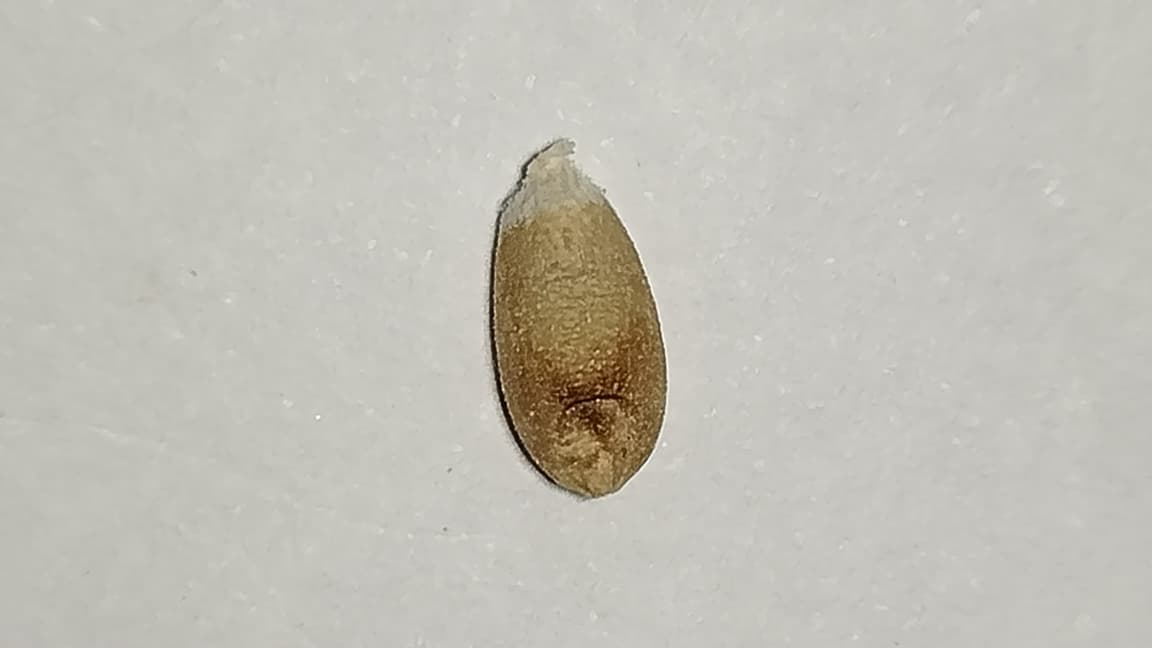damage: (485, 129, 678, 498)
staindamage: (552, 362, 634, 459)
